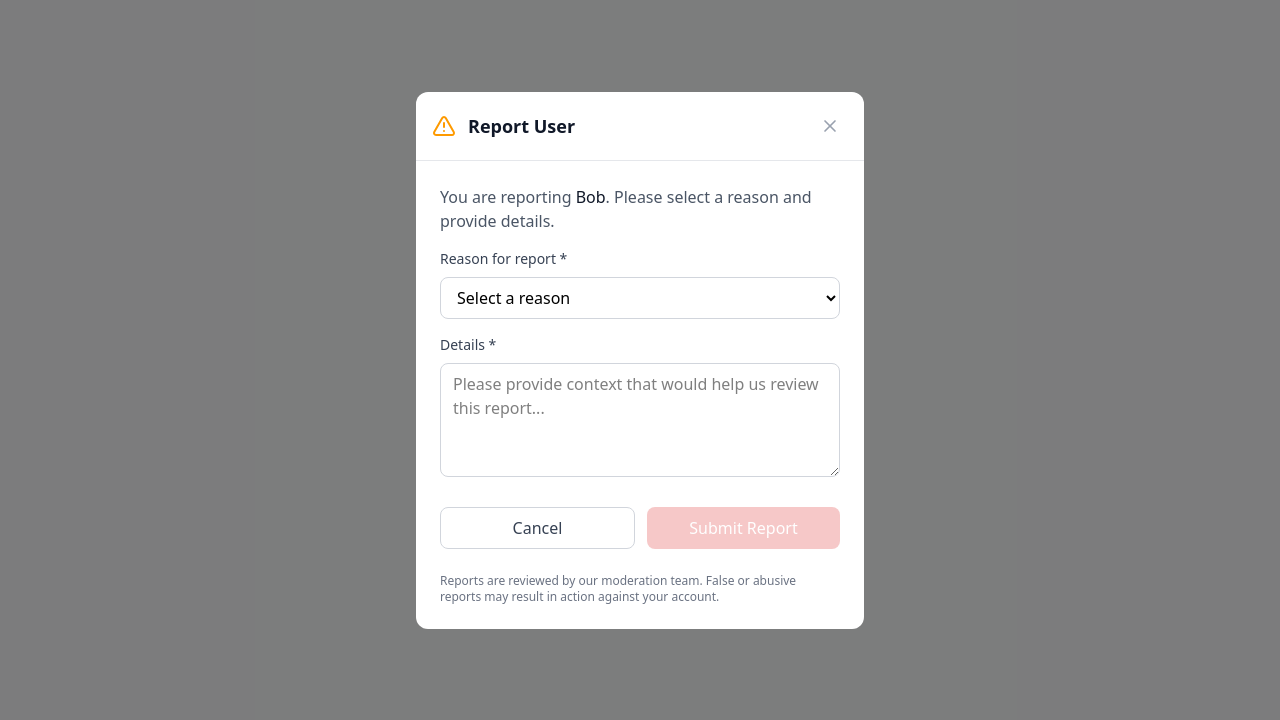
Test case: ReportModal › shows validation error when reason selected but details empty
Check: the heading "Report User" is shown, box [468,112,575,140]
Select "Other" in the dropdown showing "Select a reason" at coordinates (640, 298), box [440,276,840,318]
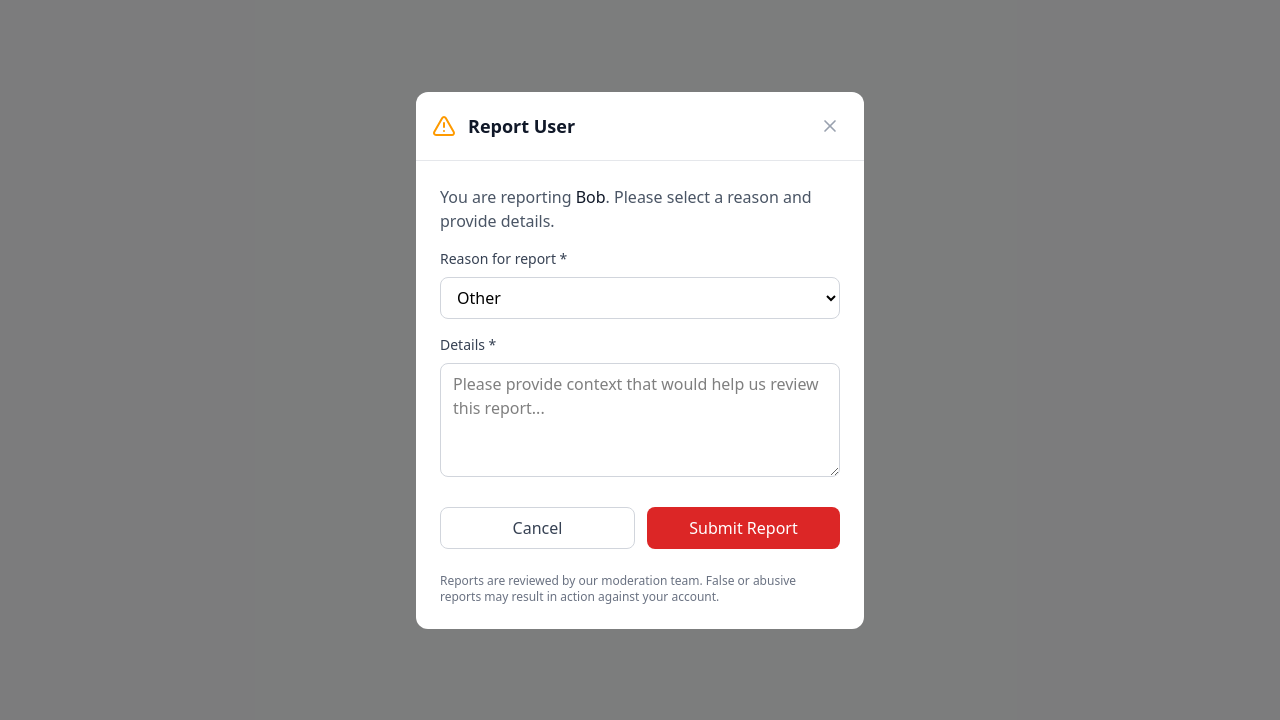
Click the button "Submit Report" at coordinates (744, 528), box [647,506,840,548]
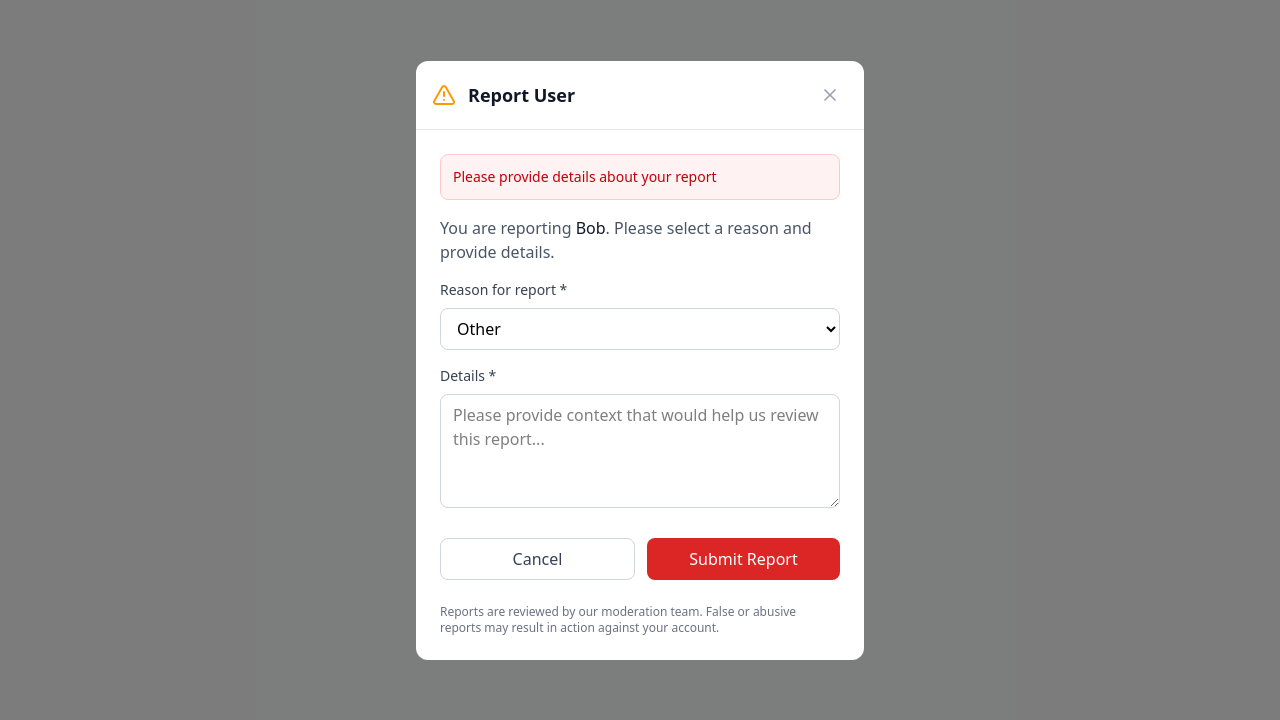
Check: the text "Please provide details about your report" is shown, box [440,154,840,200]
